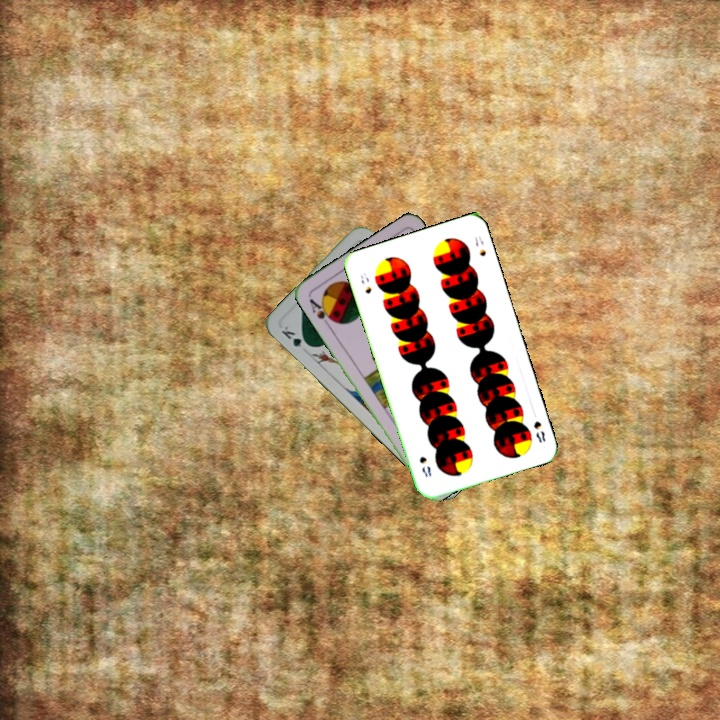GK: (277, 322, 313, 352)
S8: (529, 417, 548, 446), (357, 269, 374, 296)
SA: (305, 295, 337, 329)
